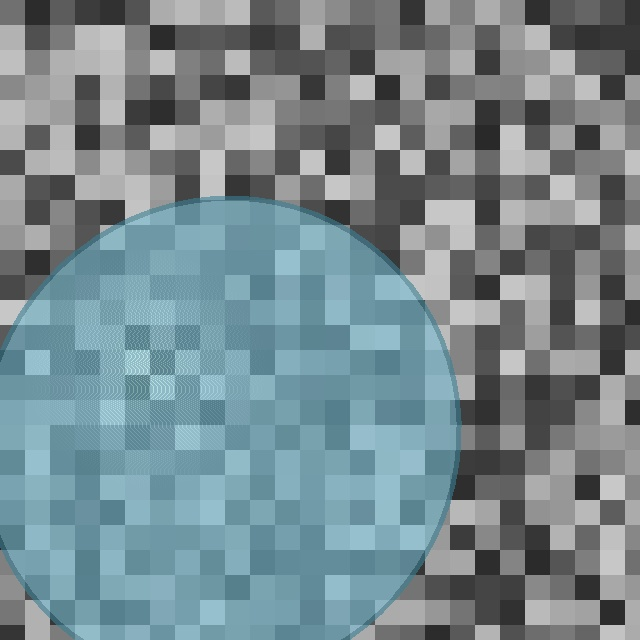lens: (0, 199, 457, 640)
